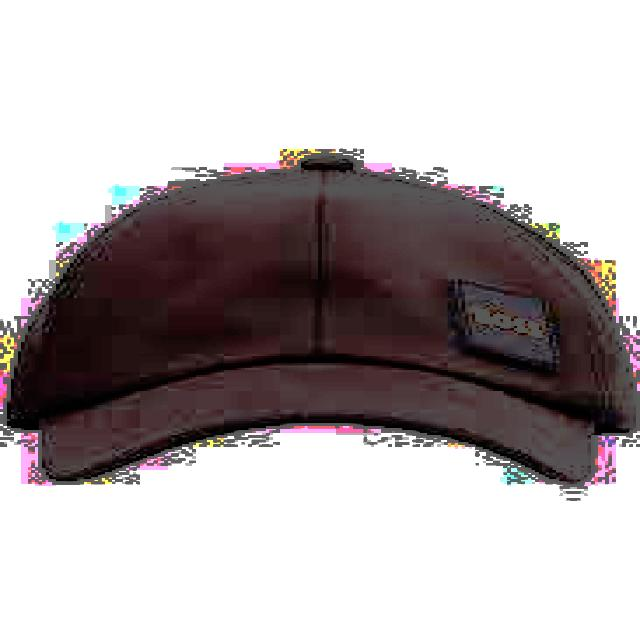TOPI: (7, 144, 630, 484)
